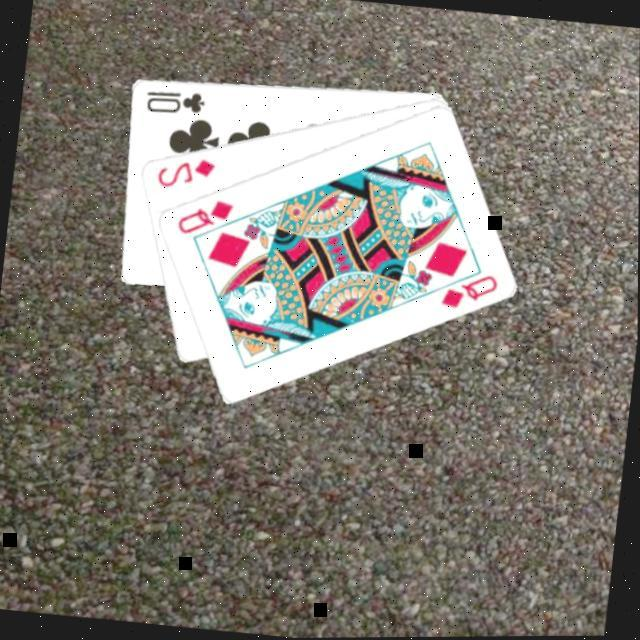10C: (141, 81, 209, 117)
2D: (153, 150, 220, 192)
QD: (437, 264, 502, 314), (173, 190, 237, 240)
